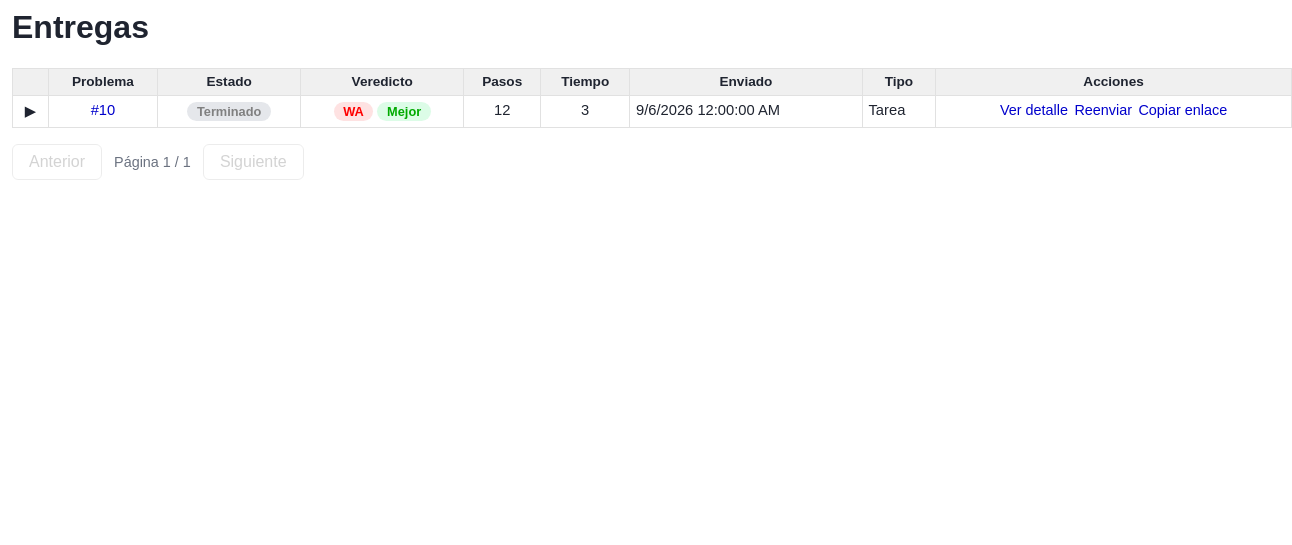
Test: Codeforces-style submission rows › expanded view shows hidden case with (oculto) in the Expected column
expect the link "#10" is shown: met, box [91,102,115,118]
Click the text "#10": (652, 112) [12,95,1291,128]
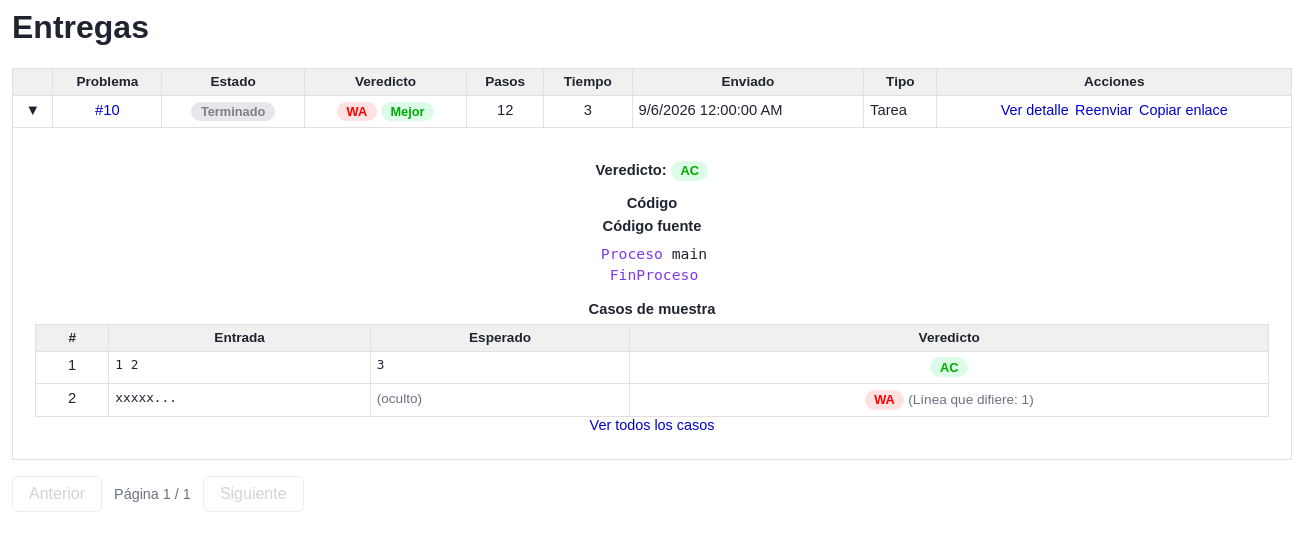
Click the button "Ver todos los casos": (652, 425) [590,417,714,433]
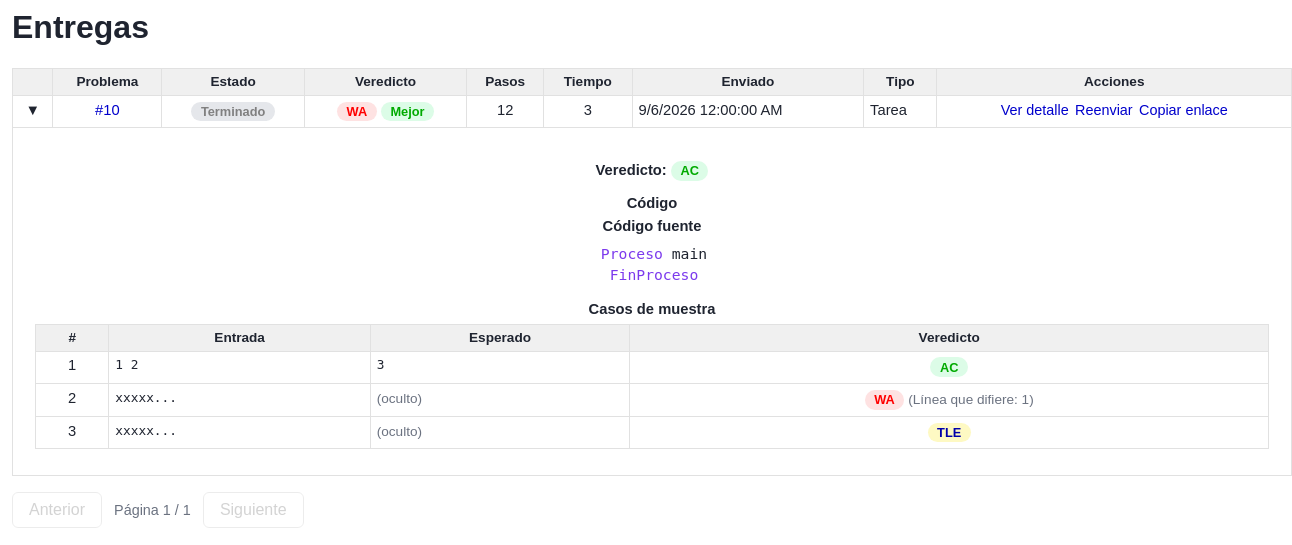
expect the text "WA" next to "Mejor" is shown: met, box [346,104,367,119]
expect the text "TLE" is shown: met, box [928,422,971,442]
